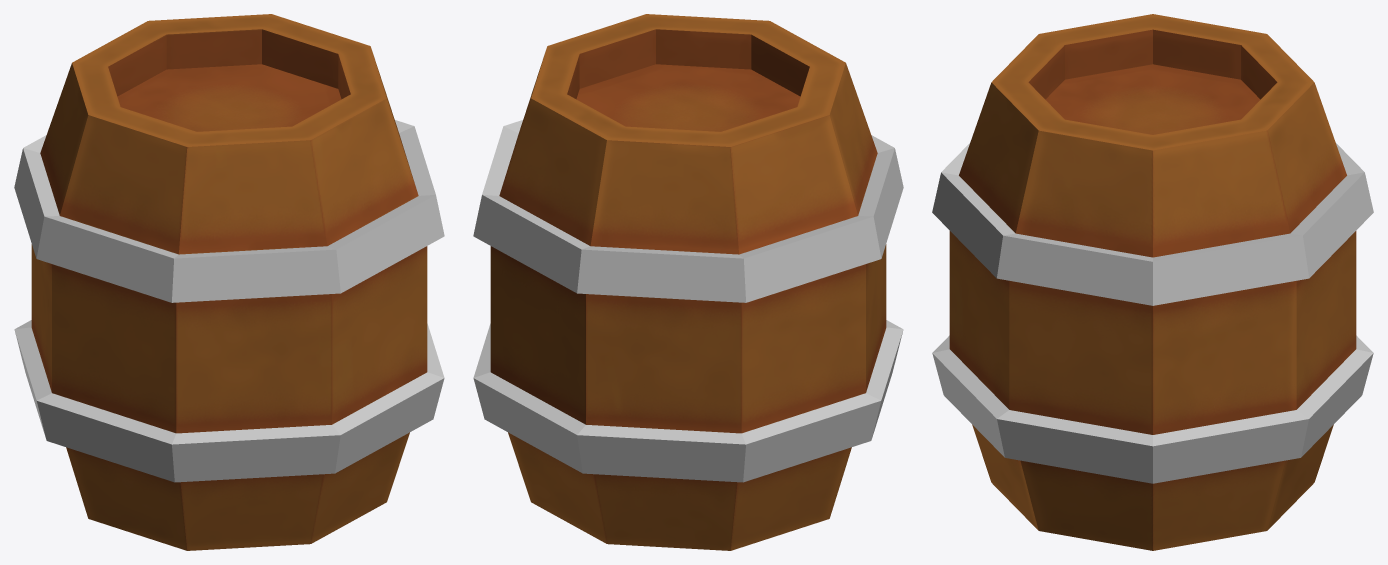
File: Barile.fbx
3 views of the same model, side by side, from view 1: azimuth 30°, elevation 25°; view 2: azimuth 150°, elevation 25°; view 3: azimuth 270°, elevation 25° (orthographic).
Visible parts, largest first — view 1: Barile; view 2: Barile; view 3: Barile.
Boxes of the visible parts, x1,y1,x2,y2 form: Barile: (14,14,444,550); Barile: (473,14,903,550); Barile: (932,14,1373,550).
Size of the model in its own units: 200 by 200 by 200.
